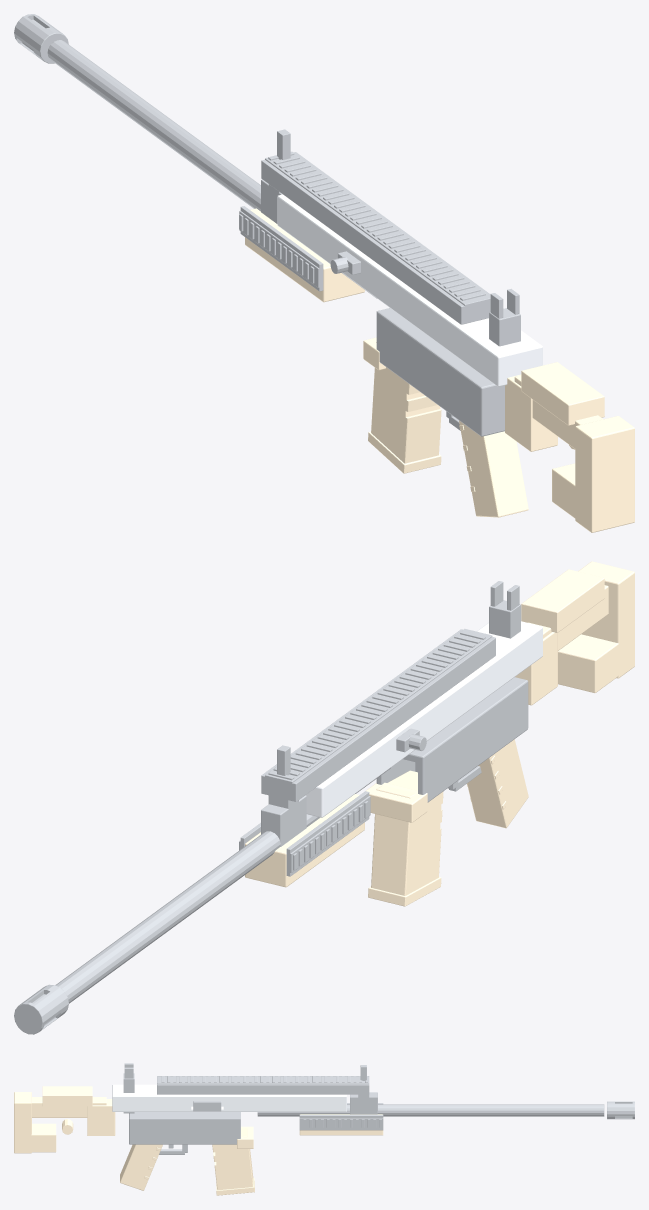
File: scar.glb
3 views of the same model, one above another, from view 1: azimuth 30°, elevation 25°; view 2: azimuth 150°, elevation 25°; view 3: azimuth 270°, elevation 25° (orthographic). The views are drawn at different scales.
Visible parts, largest first — view 1: TopRail, UpperReceiver, LowerReceiver, StockHeel, Barrel, mag, Grip, CheekRest, SideRailL, StockHinge, StockIrons, Handguard (+3 smaller); view 2: TopRail, UpperReceiver, LowerReceiver, mag, Barrel, Grip, CheekRest, StockHeel, StockToe, SideRailL, StockIrons, Handguard (+5 smaller); view 3: UpperReceiver, TopRail, LowerReceiver, Barrel, mag, SideRailR, Grip, CheekRest, StockHeel, StockHinge, StockArm, StockToe (+6 smaller).
Boxes of the visible parts, bbox=[...] form: TopRail: bbox=[261, 151, 490, 324]; UpperReceiver: bbox=[277, 194, 542, 386]; LowerReceiver: bbox=[376, 308, 504, 436]; StockHeel: bbox=[575, 416, 634, 532]; Barrel: bbox=[47, 40, 377, 298]; mag: bbox=[368, 342, 441, 473]; Grip: bbox=[459, 420, 528, 517]; CheekRest: bbox=[521, 362, 604, 425]; SideRailL: bbox=[239, 206, 323, 291]; StockHinge: bbox=[505, 374, 557, 451]; StockIrons: bbox=[268, 129, 520, 346]; Handguard: bbox=[245, 208, 364, 302]; TopRail: bbox=[261, 629, 495, 801]; UpperReceiver: bbox=[305, 621, 542, 817]; LowerReceiver: bbox=[376, 677, 528, 802]; mag: bbox=[368, 770, 443, 906]; Barrel: bbox=[55, 768, 390, 1003]; Grip: bbox=[467, 739, 528, 828]; CheekRest: bbox=[521, 569, 604, 632]; StockHeel: bbox=[578, 561, 634, 678]; StockToe: bbox=[558, 634, 626, 692]; SideRailL: bbox=[286, 791, 370, 876]; StockIrons: bbox=[268, 581, 520, 837]; Handguard: bbox=[245, 794, 364, 887]; UpperReceiver: bbox=[112, 1084, 346, 1111]; TopRail: bbox=[157, 1076, 369, 1094]; LowerReceiver: bbox=[129, 1112, 240, 1144]; Barrel: bbox=[257, 1104, 604, 1116]; mag: bbox=[212, 1128, 254, 1195]; SideRailR: bbox=[299, 1115, 383, 1130]; Grip: bbox=[120, 1144, 162, 1190]; CheekRest: bbox=[42, 1086, 92, 1106]; StockHeel: bbox=[14, 1092, 31, 1153]; StockHinge: bbox=[87, 1099, 115, 1135]; StockArm: bbox=[32, 1097, 106, 1117]; StockToe: bbox=[23, 1123, 56, 1152].
Size of the model in its own units: 0.0835 by 0.2468 by 1.11.
